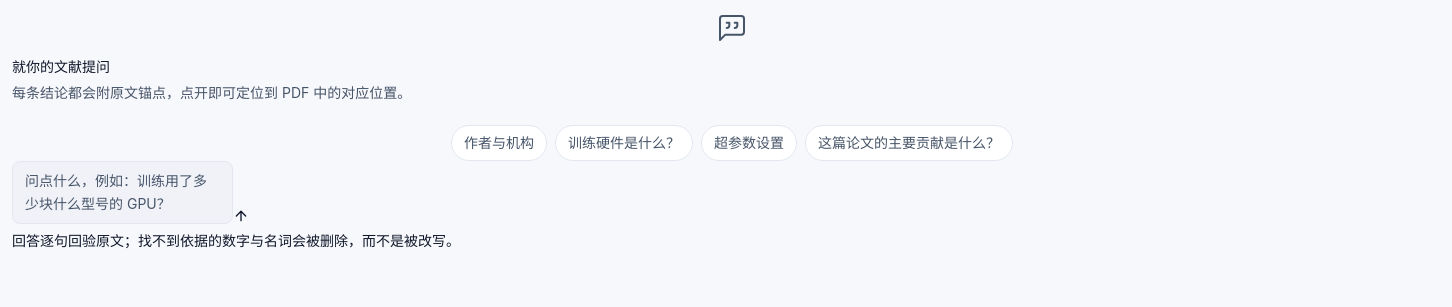
chat › shows an error card when the stream reports one
The width and height of the screenshot is (1452, 307).
Type "How many GPUs?" into the text box named "提问" at (122, 193), box [12,161,233,224]
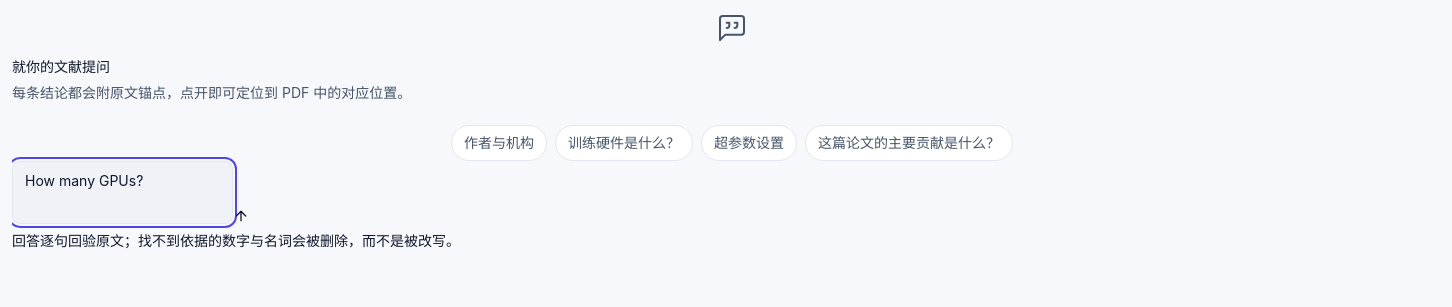
Click the button named "发送" at (241, 216), box [233,208,249,224]
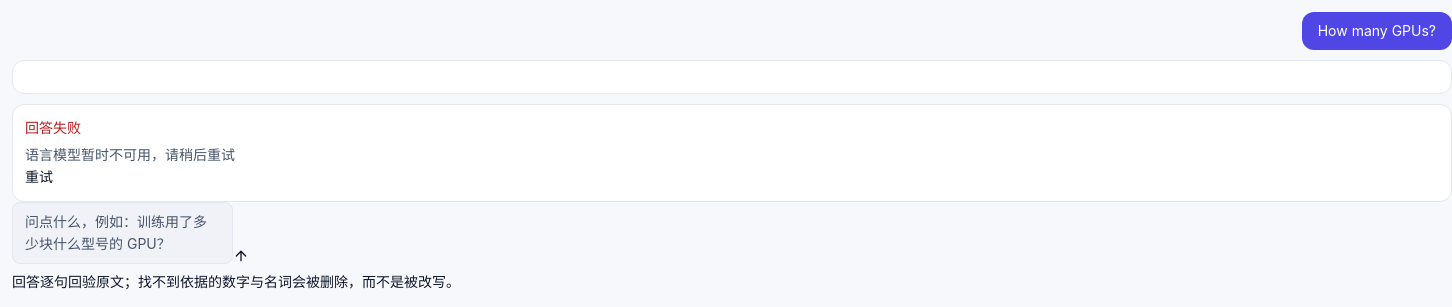
Result: the element with test id "qa-error" is shown at [12,104,1451,202]
Result: the text "语言模型暂时不可用，请稍后重试" is shown at [25,146,235,163]
